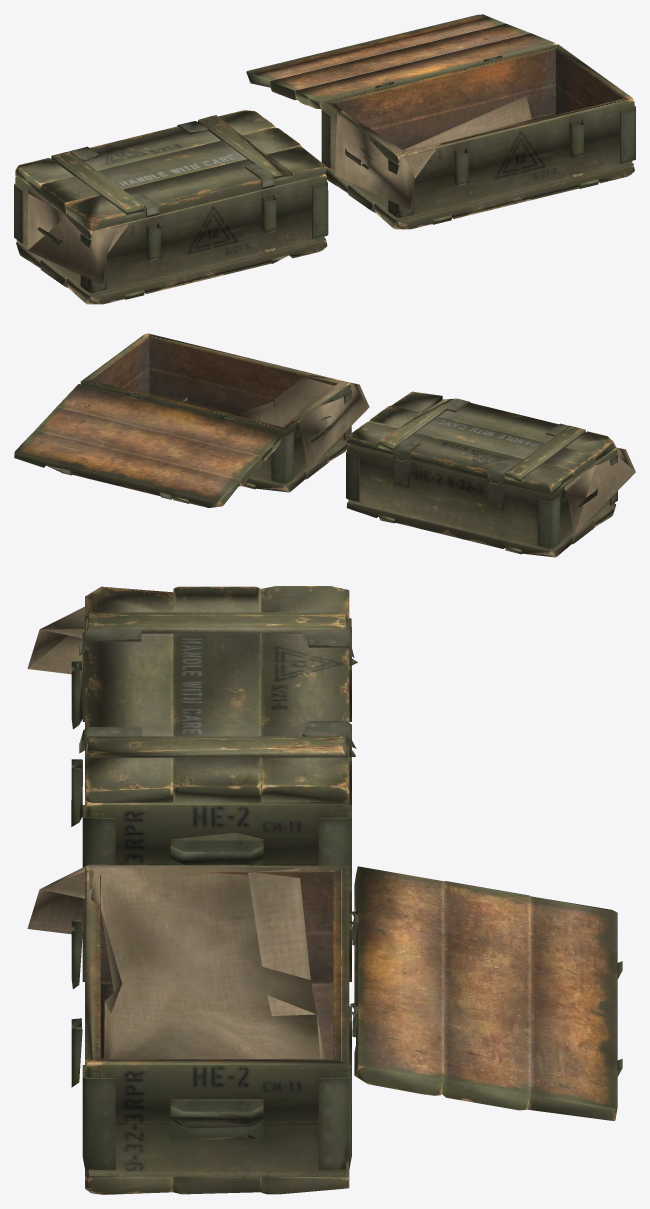
Rendered from old_military_crate.glb.
The picture shows the model from 3 angles, top to bottom: view 1: azimuth 30°, elevation 25°; view 2: azimuth 150°, elevation 25°; view 3: azimuth 270°, elevation 25°; orthographic projection. The views are drawn at different scales.
Visible parts, largest first — view 1: old_military_crate_lid_a; view 2: old_military_crate_lid_a; view 3: old_military_crate_lid_a.
Boxes of the visible parts, x1=… form: old_military_crate_lid_a: x1=14, y1=14, x2=635, y2=304; old_military_crate_lid_a: x1=14, y1=333, x2=635, y2=557; old_military_crate_lid_a: x1=27, y1=586, x2=622, y2=1194.
Bounding box in the file's own units: 1.81 × 0.289 × 0.9677.
1 material, 1 textured.
